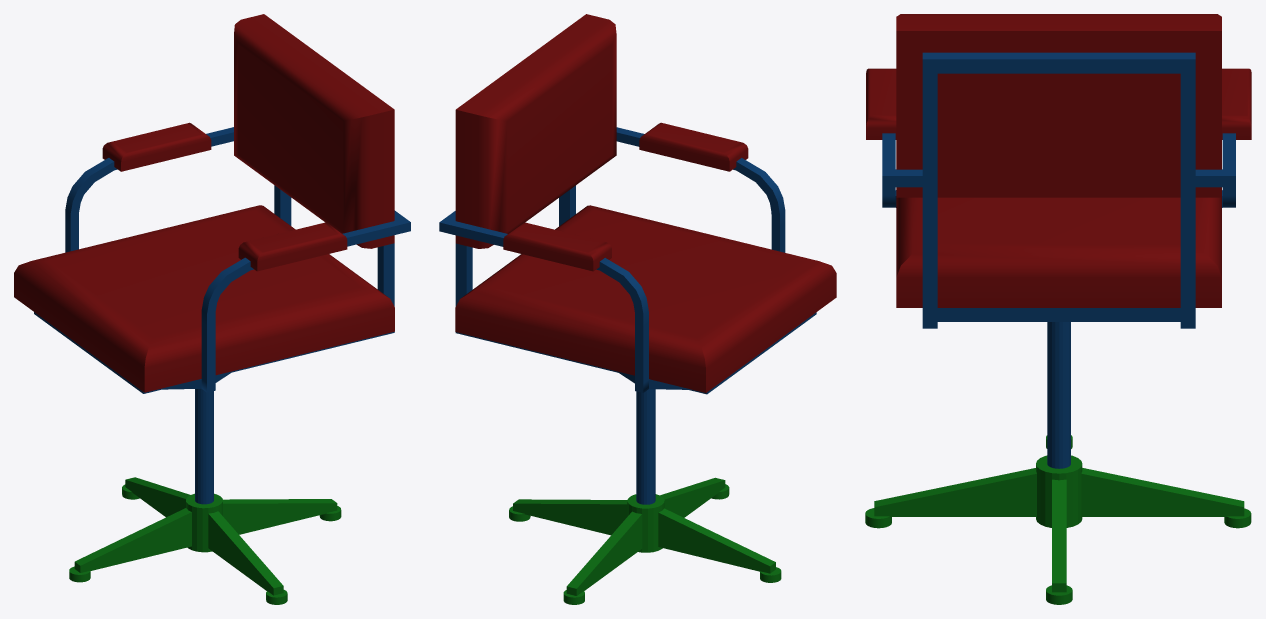
The model's file is SM_Chaise.fbx.
3 views of the same model, side by side, from view 1: azimuth 30°, elevation 25°; view 2: azimuth 150°, elevation 25°; view 3: azimuth 270°, elevation 25° (orthographic). The views are drawn at different scales.
Parts seen in each view (by area): view 1: pCube11; view 2: pCube11; view 3: pCube11.
Part boxes in pixels (x1,y1,x2,y2): pCube11: (14, 14, 410, 604); pCube11: (439, 14, 836, 604); pCube11: (865, 14, 1251, 604).
Size of the model in its own units: 3.99 by 6.43 by 3.97.
